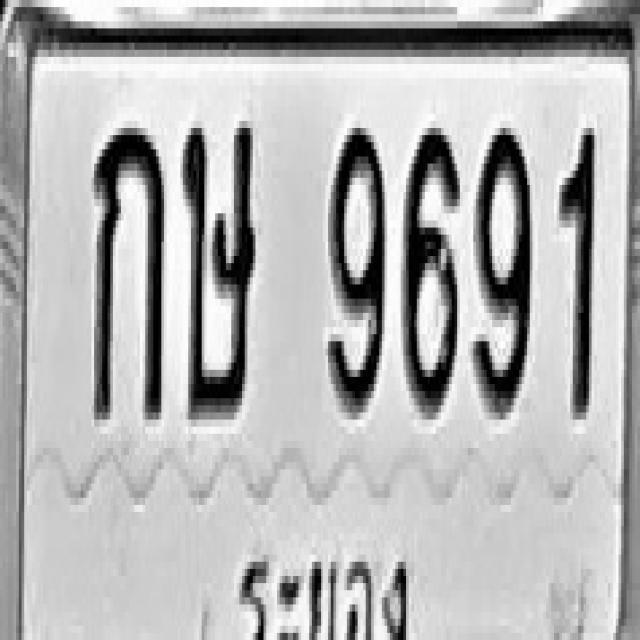1: (558, 121, 596, 419)
10GorGai: (91, 121, 164, 419)
48SorRueSi: (180, 117, 256, 416)
6: (402, 121, 459, 412)
9: (473, 124, 530, 416), (327, 121, 383, 412)
Rayong: (234, 535, 418, 640)
